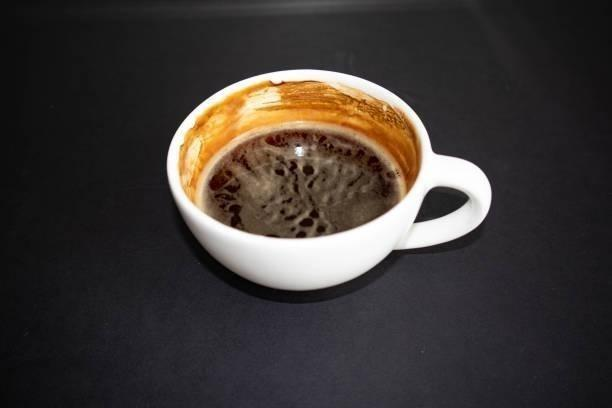cup-handle: (165, 66, 493, 294)
